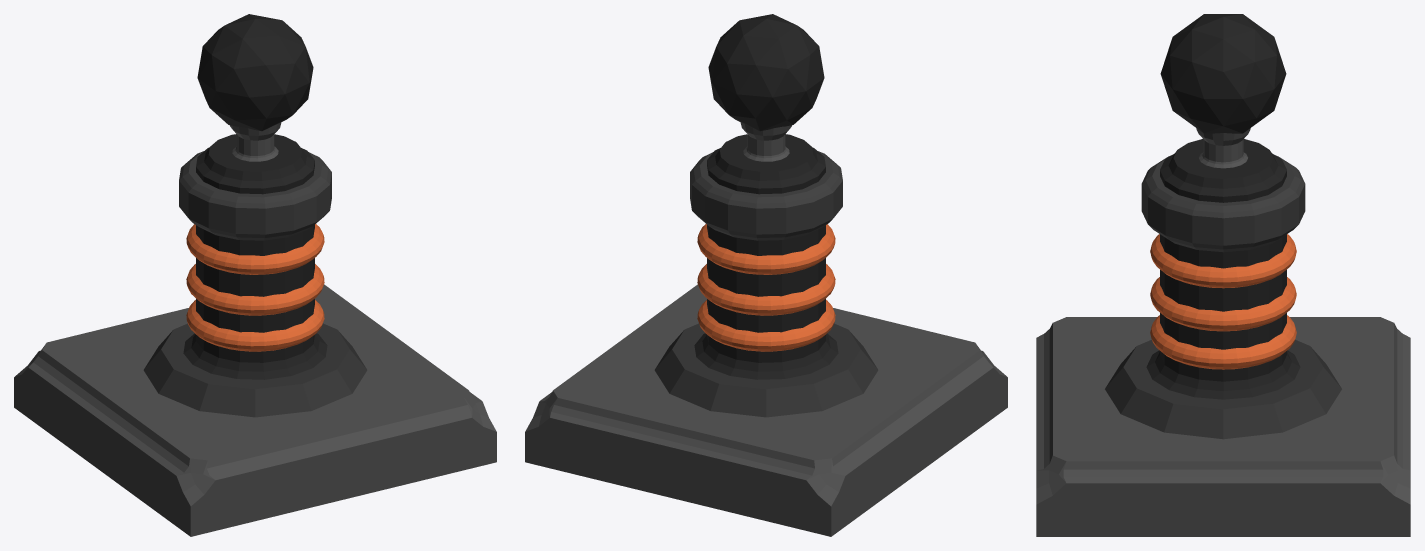
Rendered from Tesla Tower.fbx.
3 renders of one model, left to right at view 1: azimuth 30°, elevation 25°; view 2: azimuth 150°, elevation 25°; view 3: azimuth 270°, elevation 25°, orthographic. The views are drawn at different scales.
Parts seen in each view (by area): view 1: Platform, Tesla; view 2: Platform, Tesla; view 3: Platform, Tesla.
Boxes of the visible parts, <box> form: Platform: <box>14,284,496,536</box>; Tesla: <box>179,14,331,379</box>; Platform: <box>525,284,1007,536</box>; Tesla: <box>690,14,842,379</box>; Platform: <box>1036,317,1410,536</box>; Tesla: <box>1141,14,1305,399</box>.
Bounding box in the file's own units: 100 × 130 × 100.
